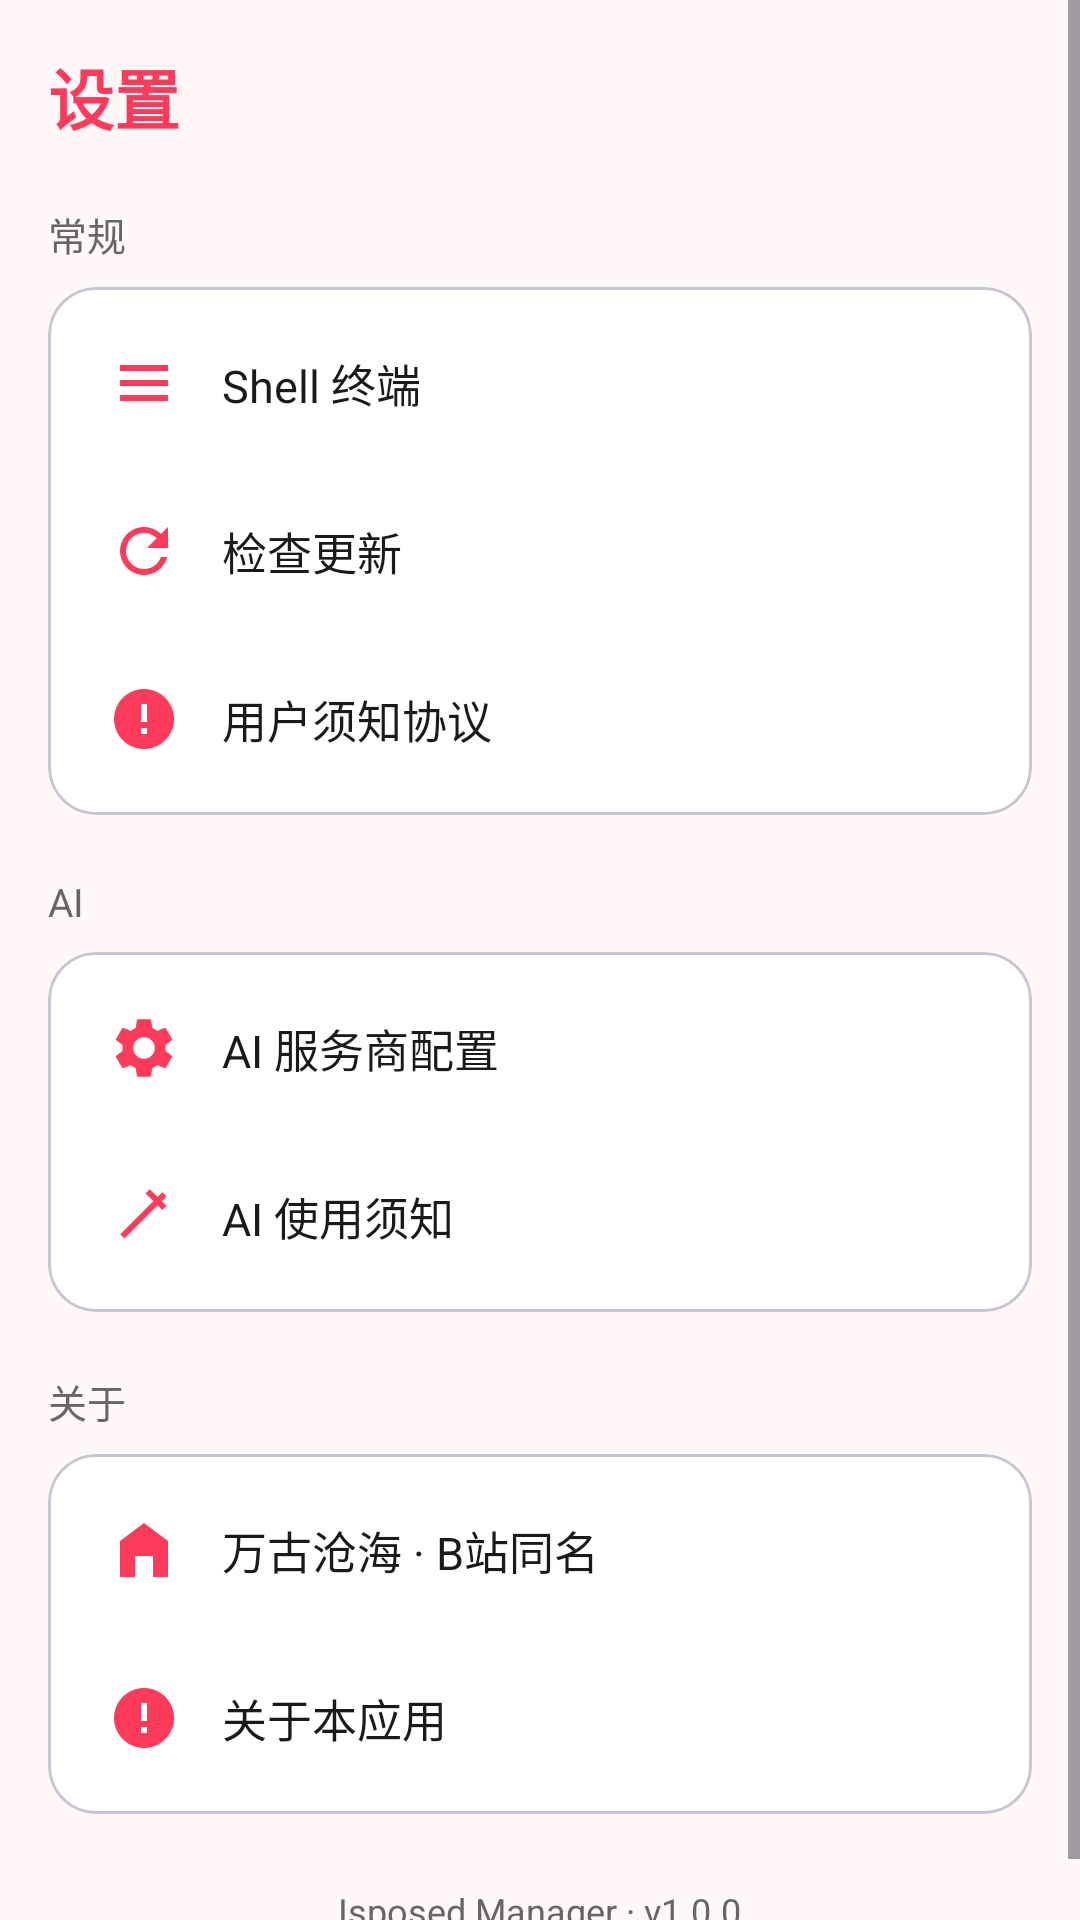

Icon click points for this 1080 x 1920 phone screenshot, format [x,y]:
home: [144,1550]
menu: [144,383]
settings: [144,1048]
update: [144,551]
